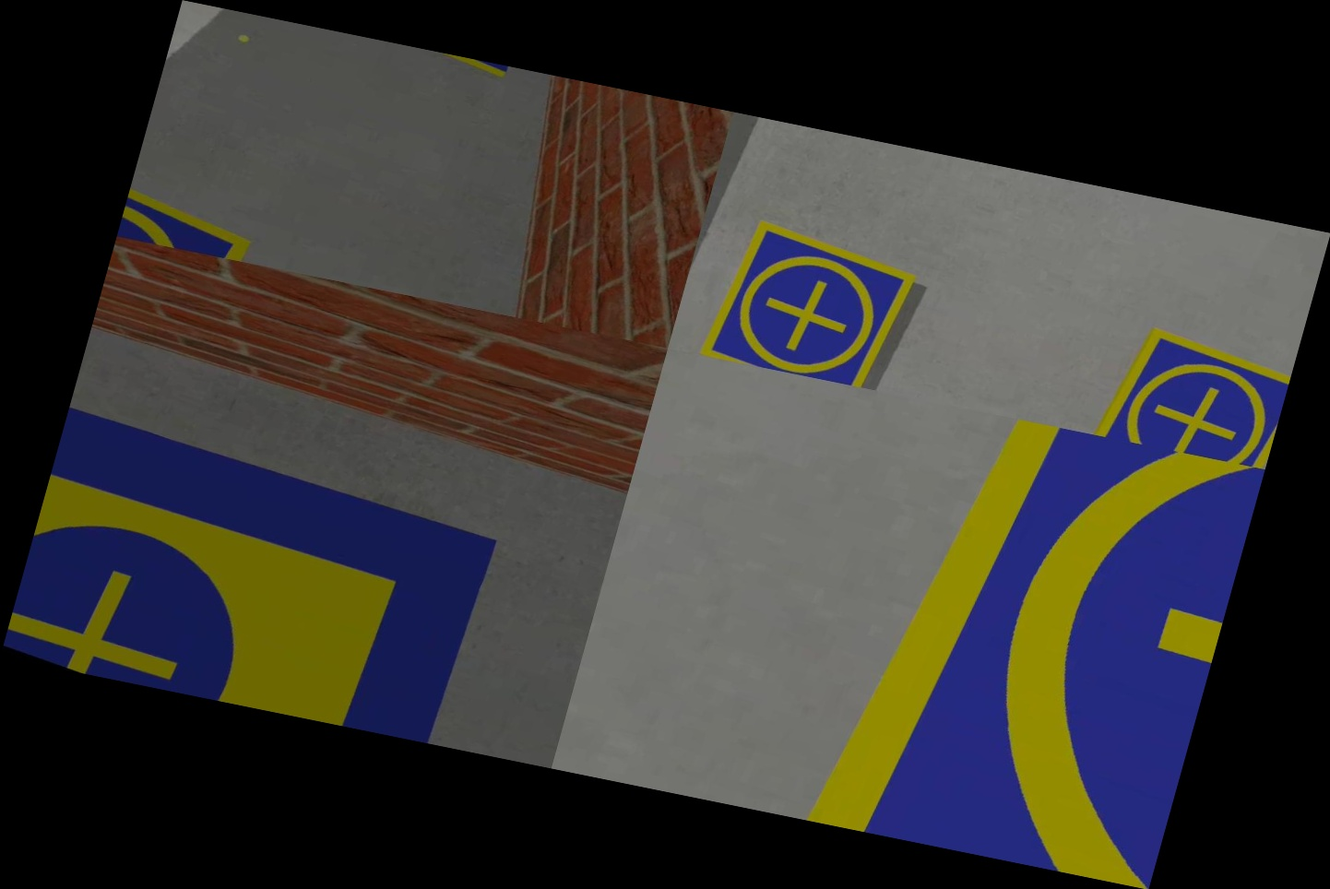large_base: (0, 358, 555, 752)
small_base: (786, 396, 1264, 889), (693, 209, 928, 393), (1084, 314, 1297, 469)
